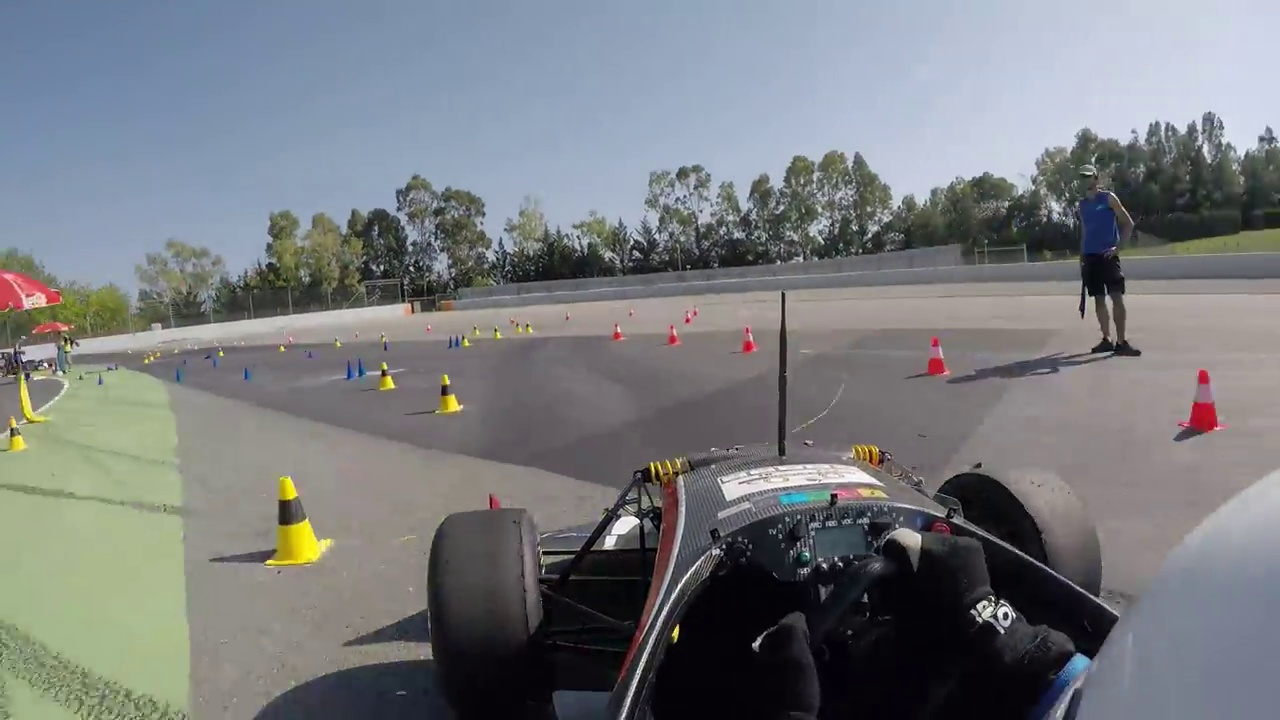Cone: (270, 475, 323, 563), (1184, 367, 1229, 435), (926, 334, 952, 380), (439, 372, 463, 412), (376, 362, 398, 390)
